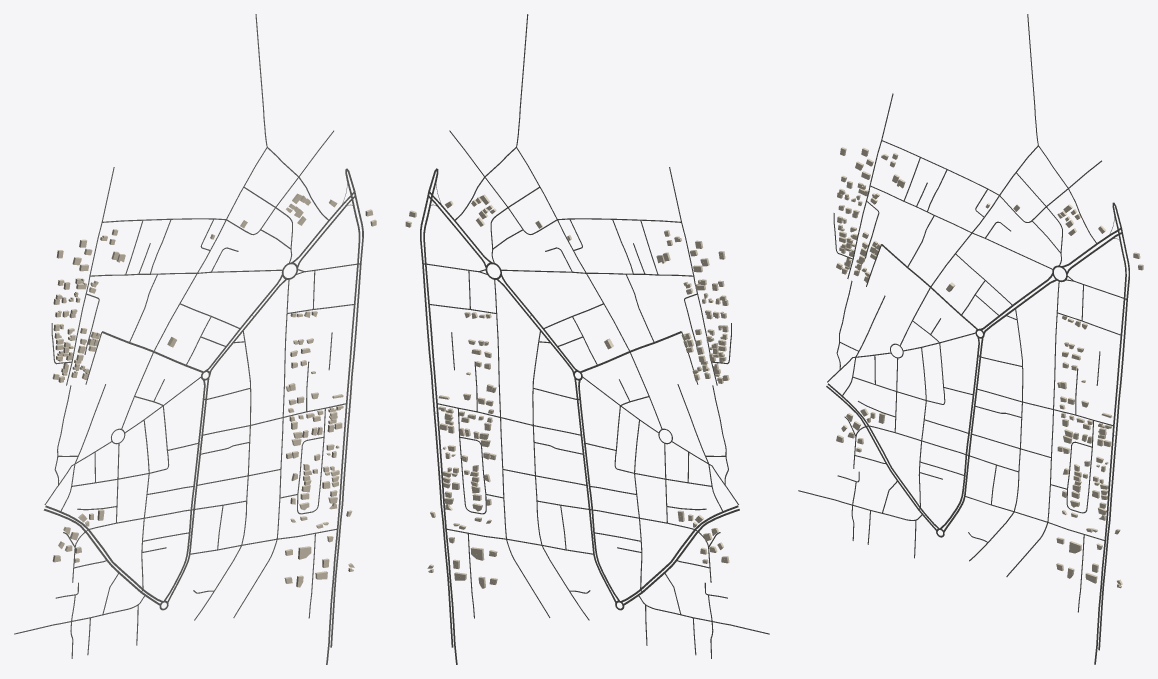
Rendered from irbid_3594_3264.glb.
3 renders of one model, left to right at view 1: azimuth 30°, elevation 25°; view 2: azimuth 150°, elevation 25°; view 3: azimuth 330°, elevation 25°, orthographic. The views are drawn at different scales.
Parts seen in each view (by area): view 1: Road .002, Road .001, Road .063, Road .026; view 2: Road .002, Road .001, Road .063, Road .026; view 3: Road .002, Road .001, Road .063, Road .026.
Part boxes in pixels (x1,y1,x2,y2): Road .002: [326, 168, 360, 664]; Road .001: [330, 168, 363, 647]; Road .063: [121, 14, 267, 428]; Road .026: [233, 279, 289, 617]; Road .002: [423, 168, 457, 664]; Road .001: [420, 168, 453, 647]; Road .063: [516, 14, 662, 428]; Road .026: [494, 279, 550, 617]; Road .002: [1094, 202, 1126, 664]; Road .001: [1098, 202, 1129, 650]; Road .063: [900, 14, 1038, 345]; Road .026: [1006, 281, 1059, 576].
Size of the model in its own units: 1057 by 1861 by 13.6.
